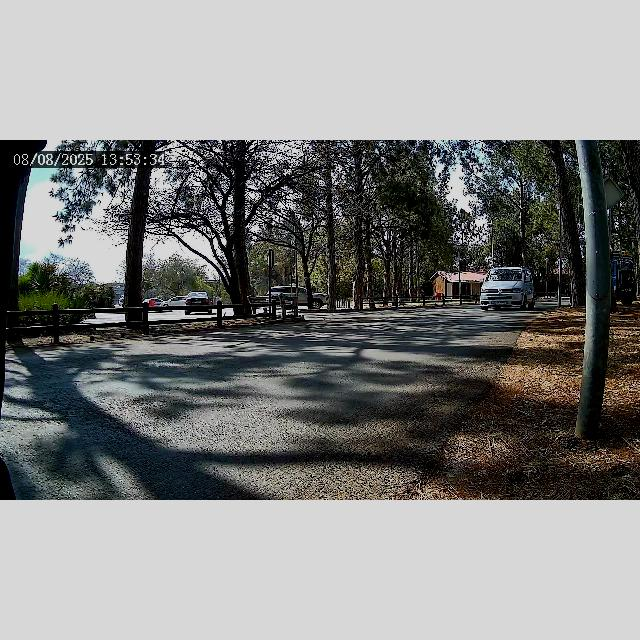car: (479, 267, 536, 311)
